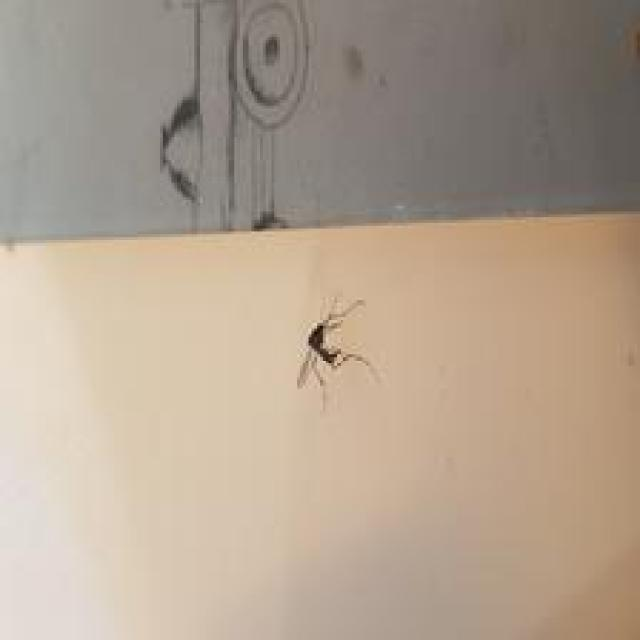Aedes albopictus: (294, 293, 380, 413)
